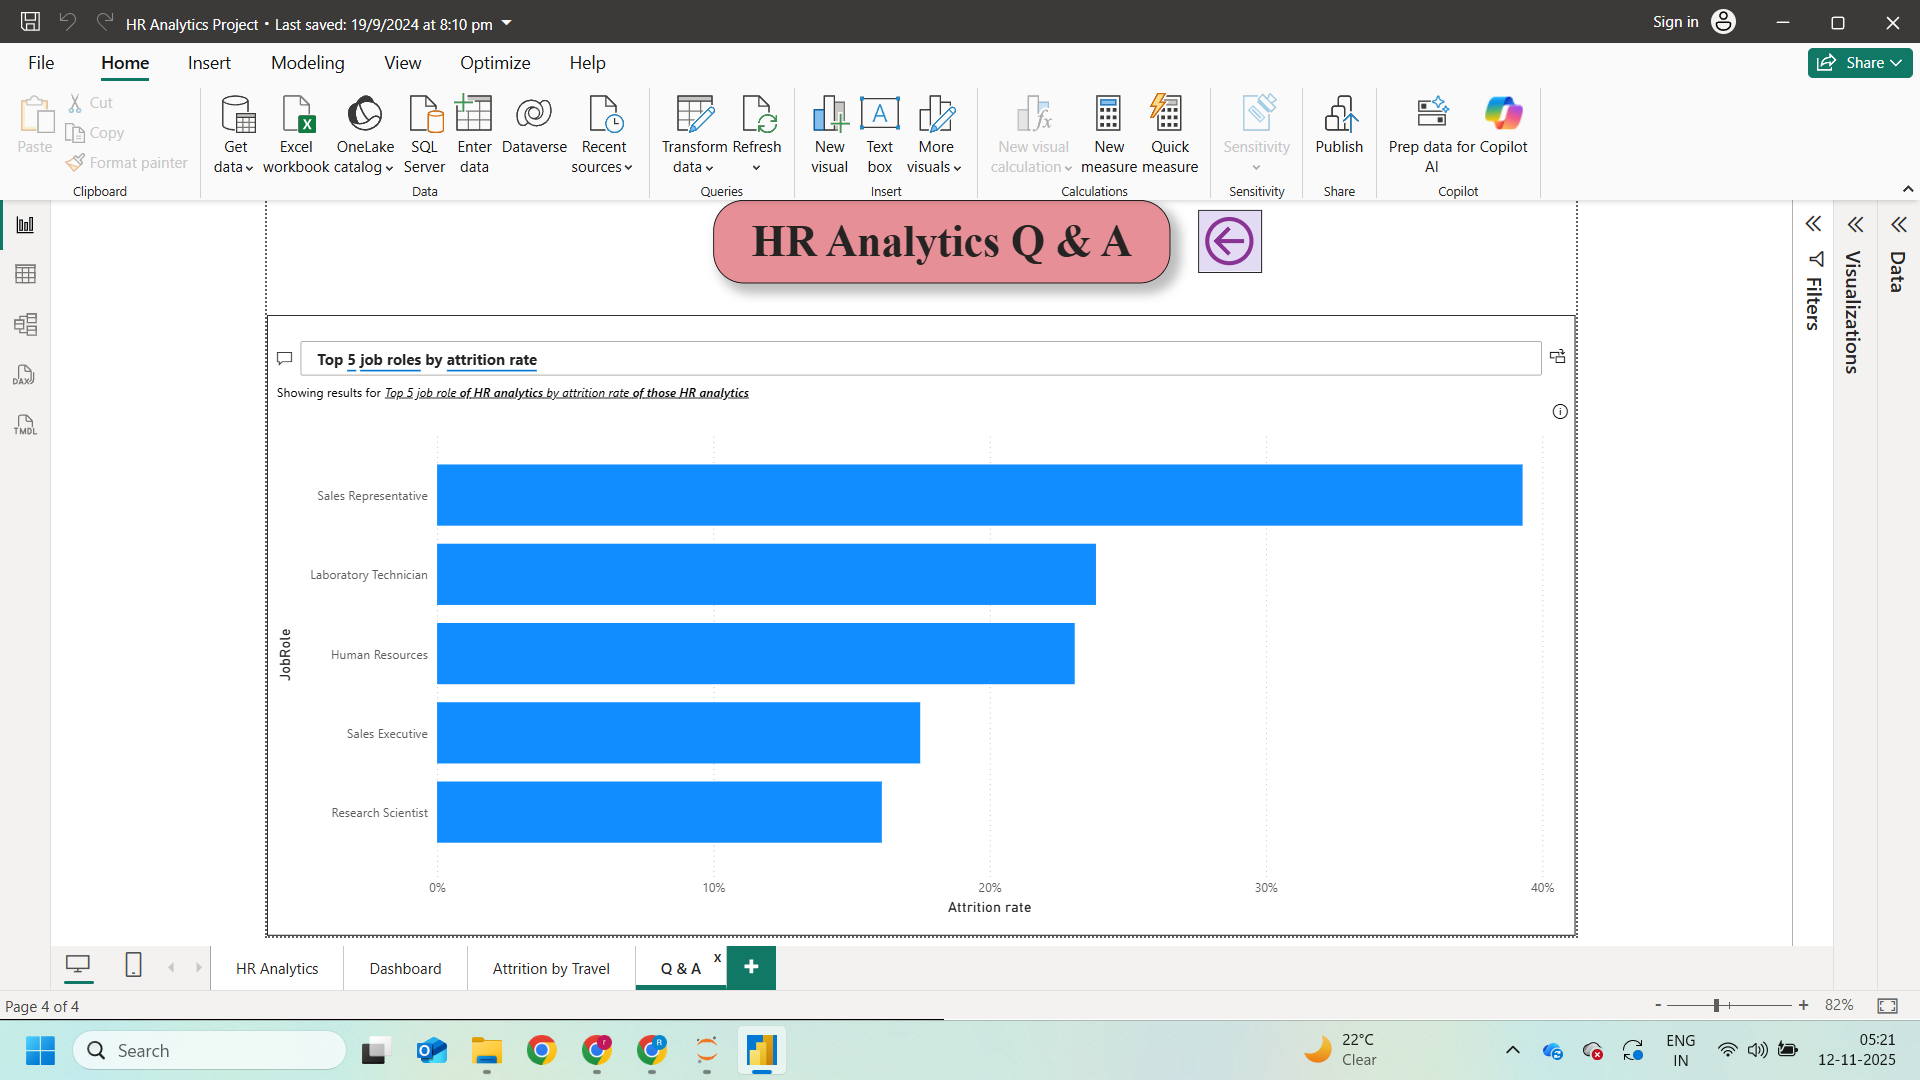

This screenshot's page, from the dashboard's own definition file:
{"tool":"powerbi","page":{"name":"Q & A","canvas":[1280,720],"ordinal":3},"visuals":[{"type":"qnaVisual","box":[0,112.5,1280,607.5],"z":0},{"type":"textbox","box":[436.2,0,447.5,81.2],"z":1000},{"type":"actionButton","box":[911.2,10,62.5,61.2],"z":2000}]}

Visuals, with their boxes on the page's 1280x720 design canvas (x1, y1, x2, y2). These are canvas units, not pixel positions in the 1920x1080 screenshot, which may show the page scaled, cropped or inside an application window:
qnaVisual: (left=0, top=112, right=1280, bottom=720)
textbox: (left=436, top=0, right=884, bottom=81)
actionButton: (left=911, top=10, right=974, bottom=71)
